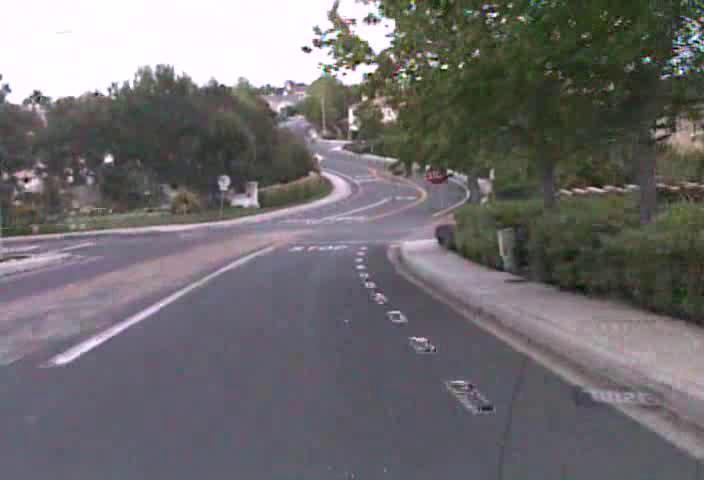stop: (425, 164, 448, 185)
